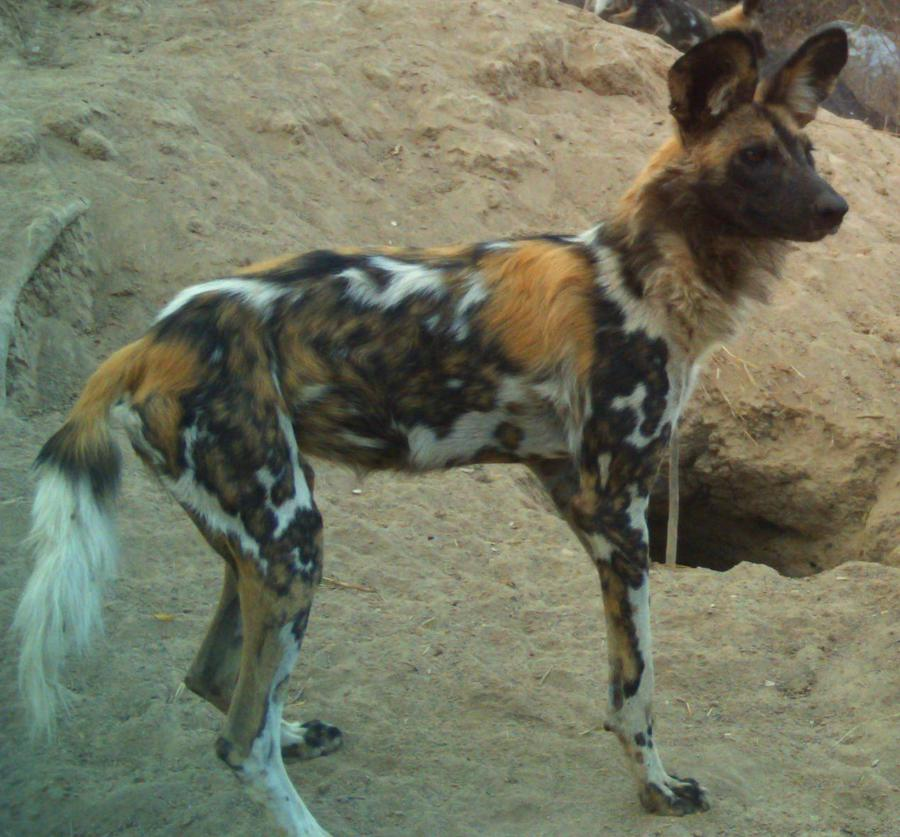wilddog: (93, 52, 851, 650)
